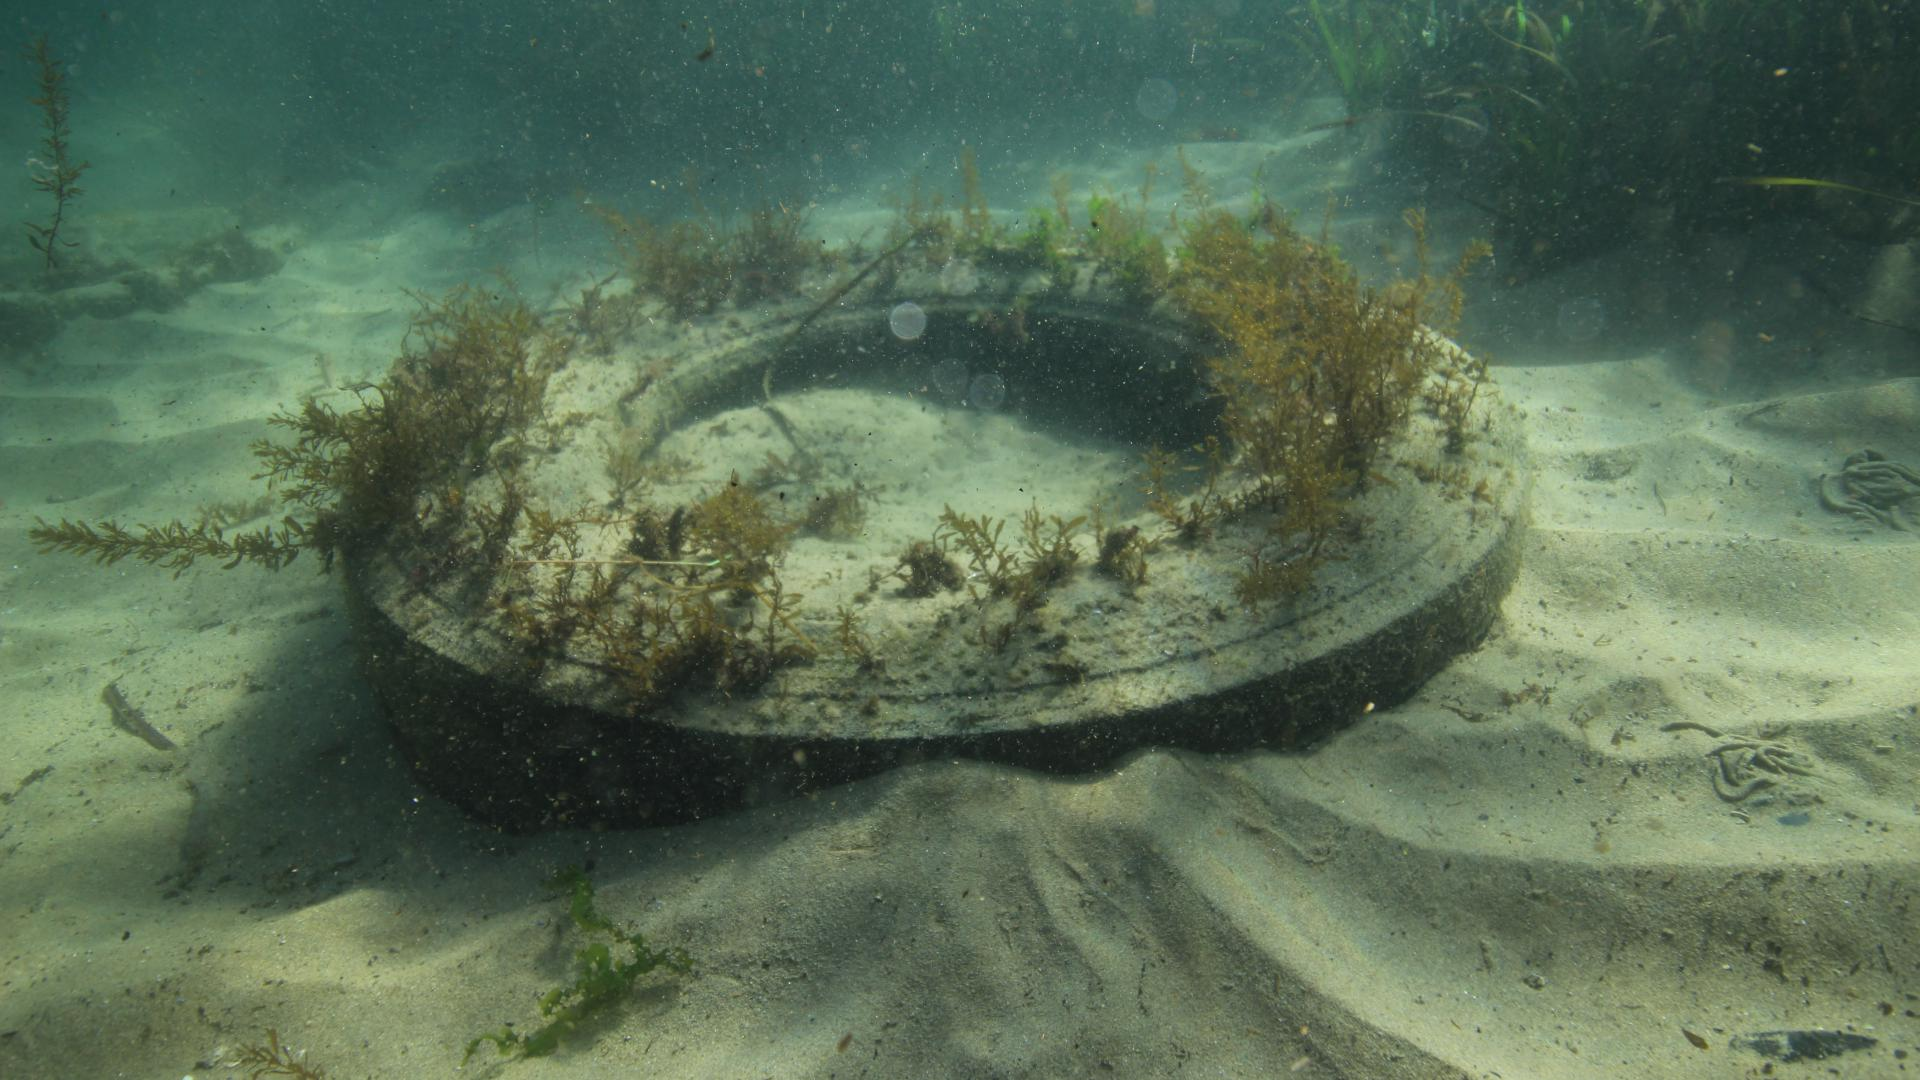tire: (344, 243, 1534, 833)
